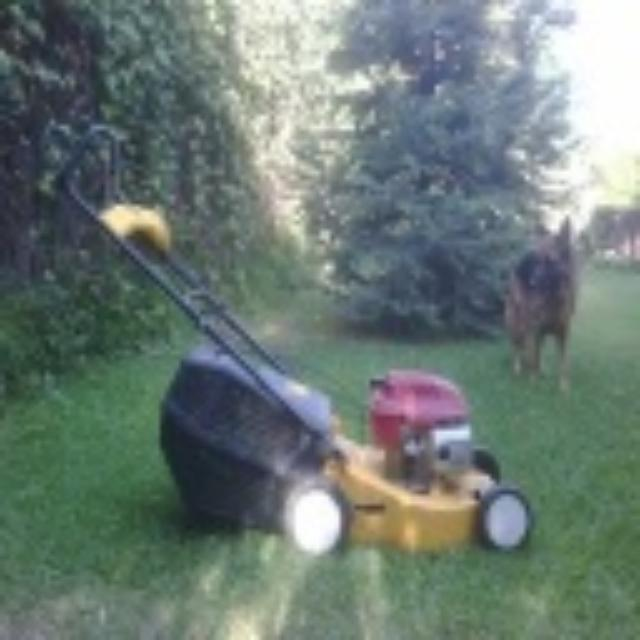Rotary-Mower: (41, 115, 536, 560)
